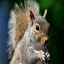squirrel: (8, 0, 52, 64)
